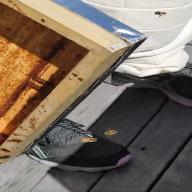Bee: (77, 134, 103, 149), (150, 7, 171, 20), (96, 127, 125, 136)
